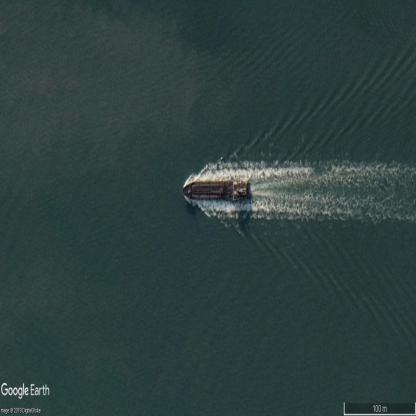ship: (183, 177, 251, 205)
